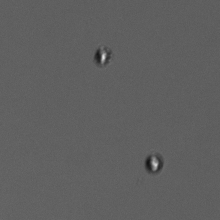Living Cell: (93, 43, 114, 68), (144, 151, 166, 174)
